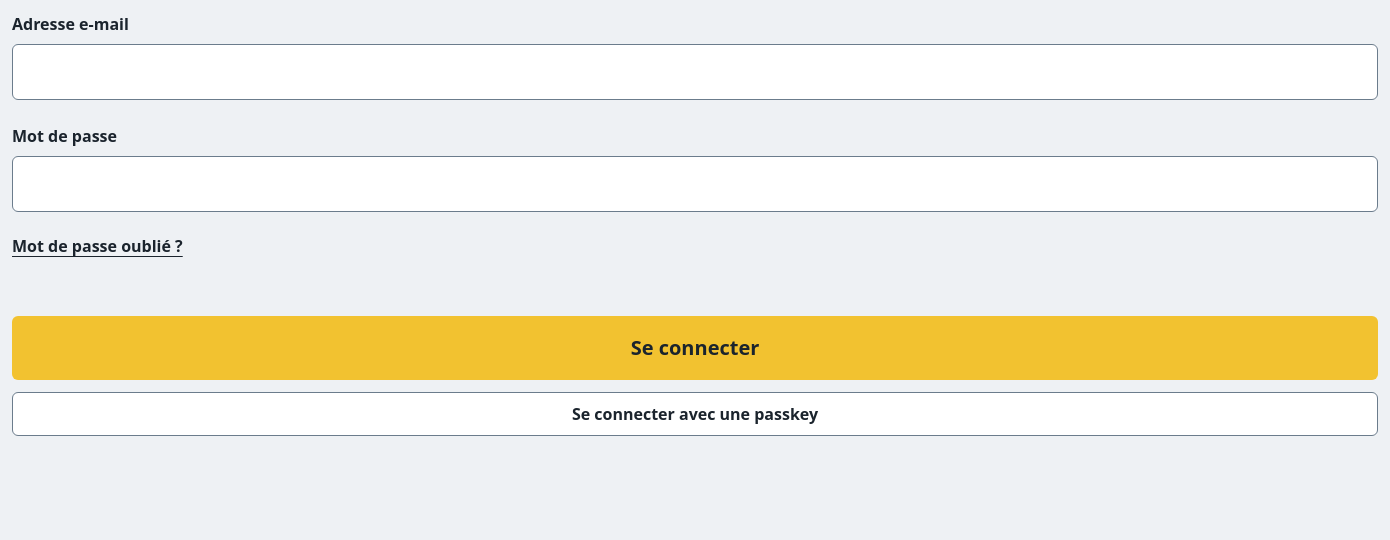
Scenario: LoginForm, passkey › annonce la limite de débit des demandes de passkey
Click the button "Se connecter avec une passkey" at (695, 414), box top-left (12, 392), bottom-right (1378, 436)
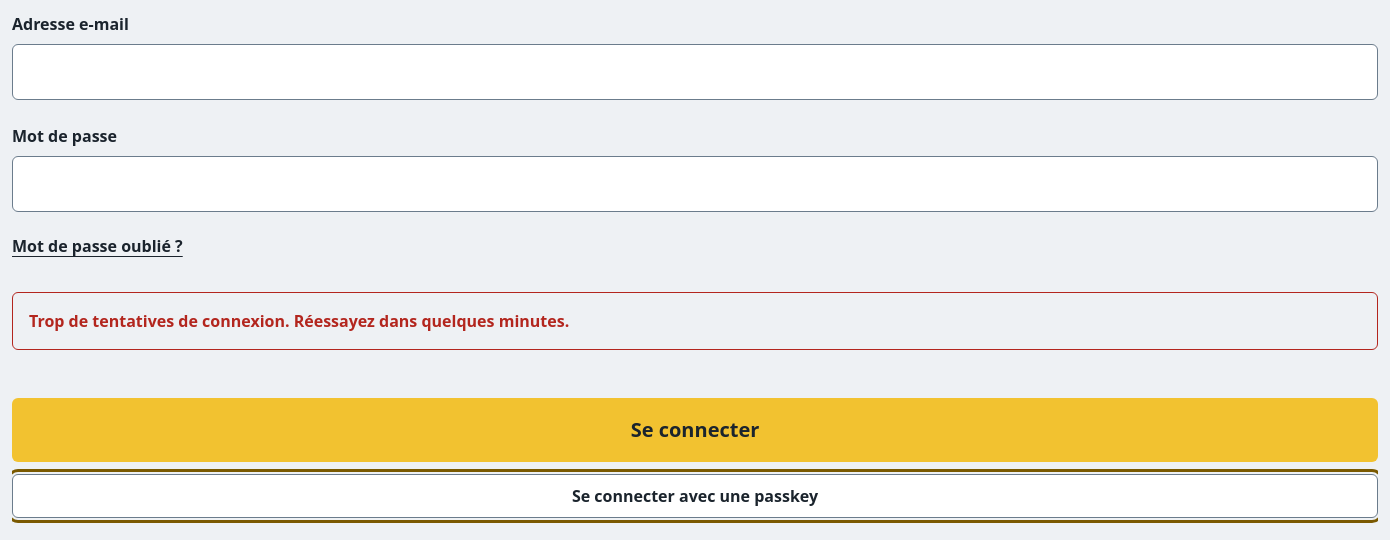
expect the message reads "Trop de tentatives de connexion. Réessayez dans quelques minutes.": met, box top-left (29, 310), bottom-right (569, 332)
